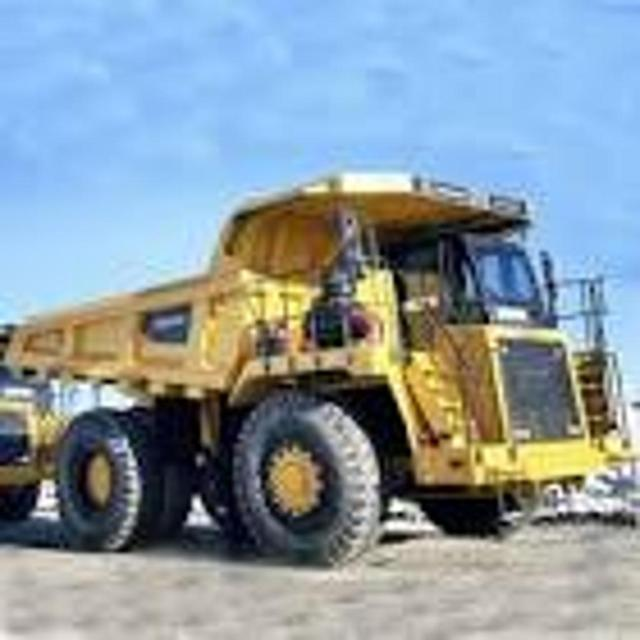dump_truck: (0, 158, 640, 577)
